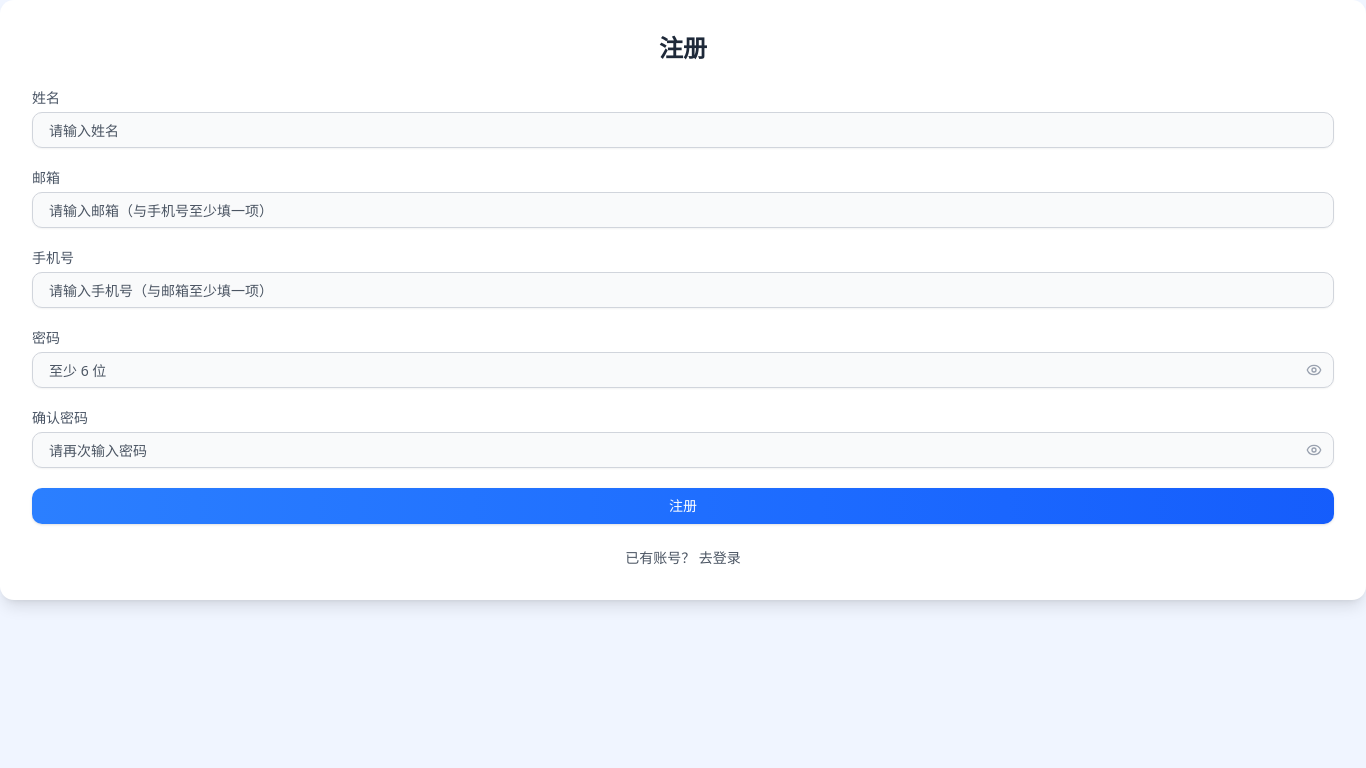
Test case: RegisterForm › requires at least email or phone
Step 1. Type "张三" into the field labelled "姓名" → (683, 130), box [32,112,1334,148]
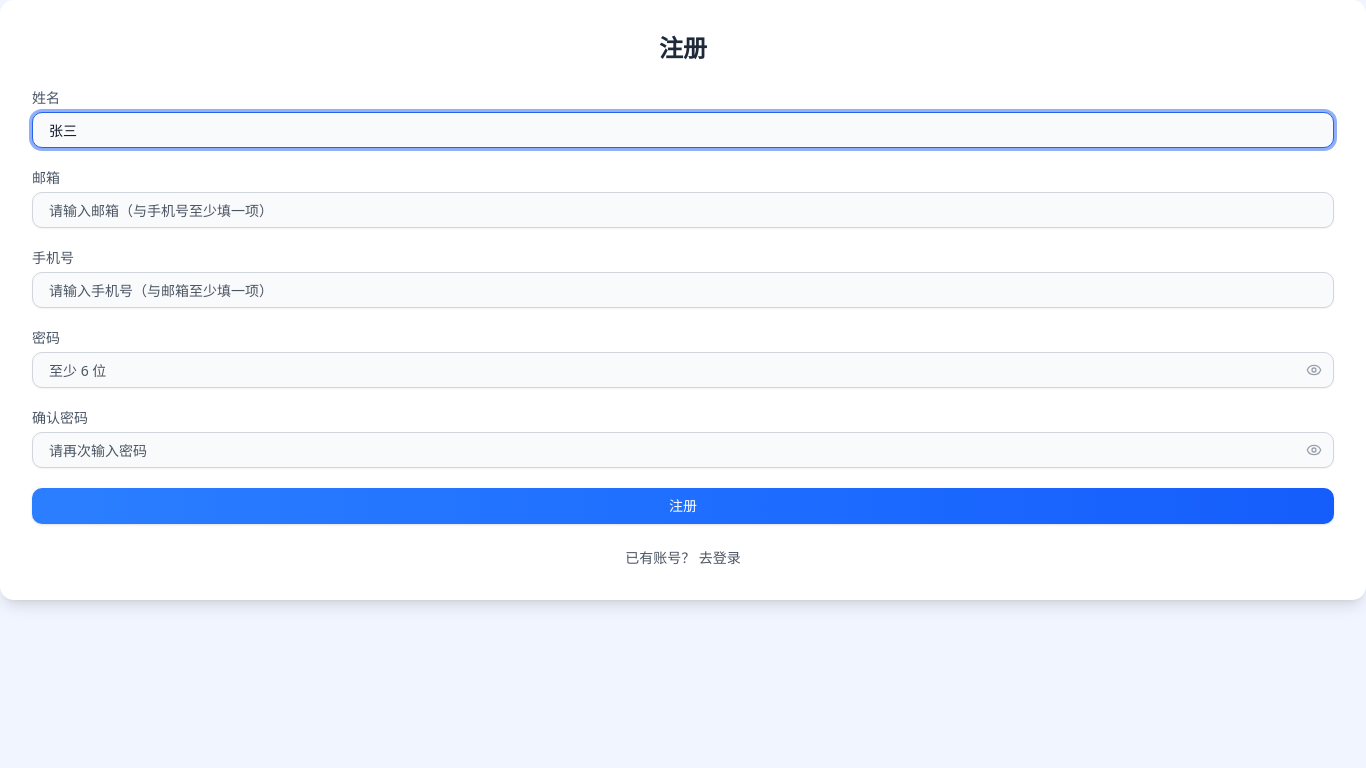
Step 2. Type "password123" into the password field labelled "密码" → (683, 370), box [32,352,1334,388]
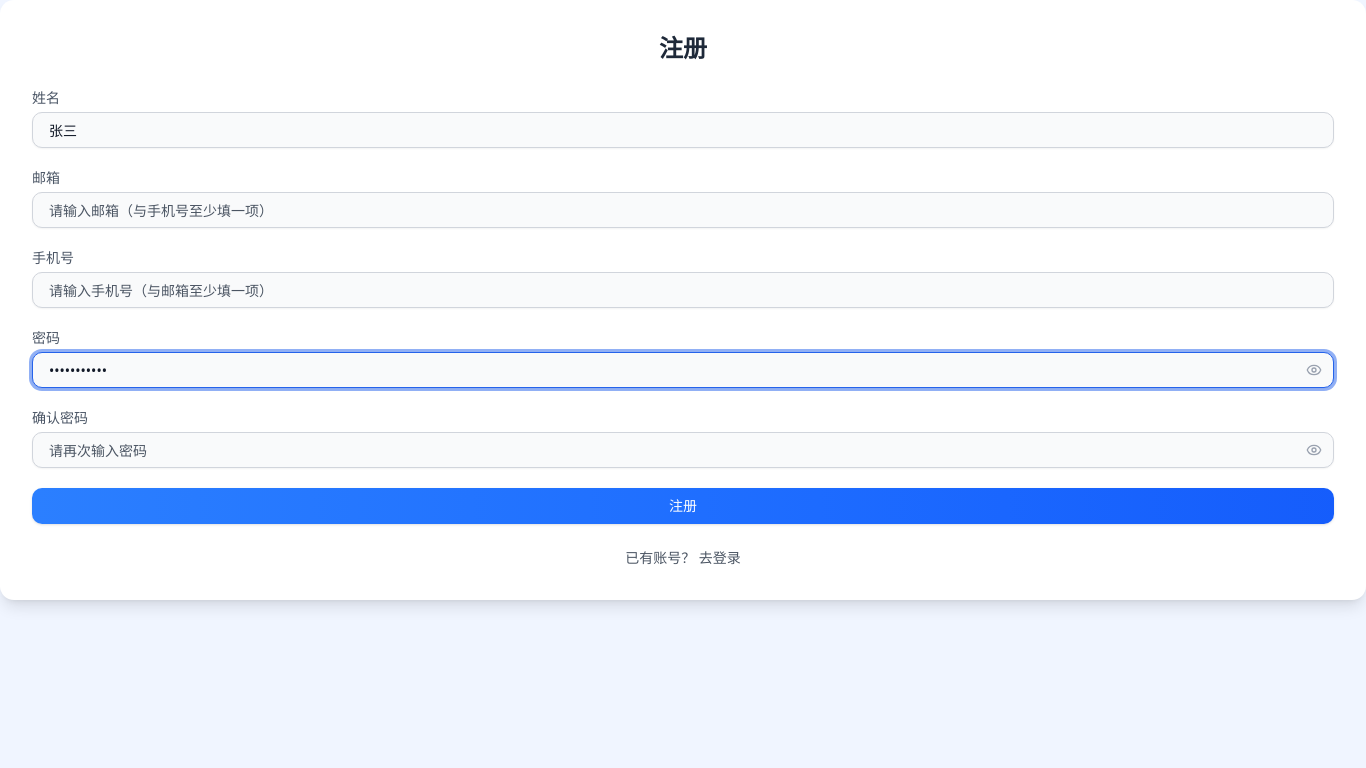
Step 3. Type "password123" into the password field labelled "确认密码" → (683, 450), box [32,432,1334,468]
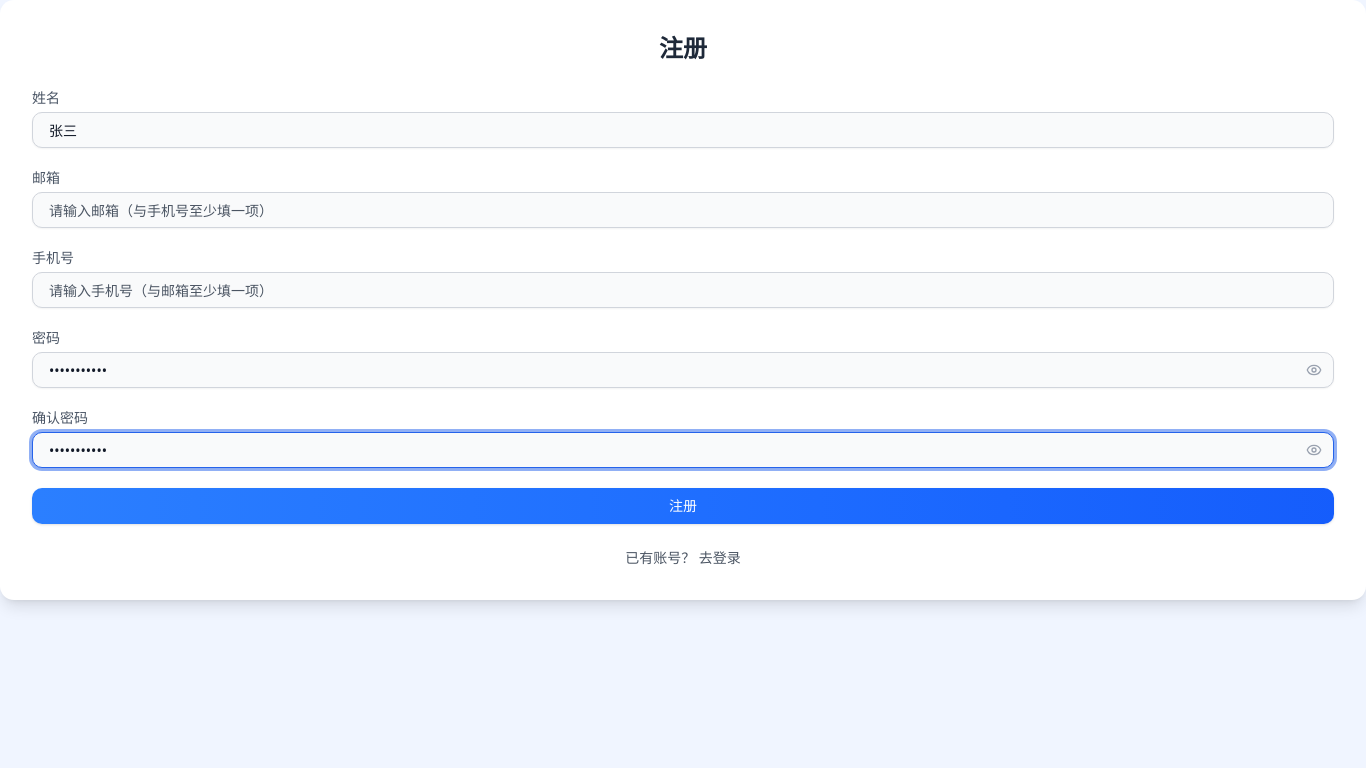
Step 4. Click the button "注册" → (683, 506), box [32,488,1334,524]
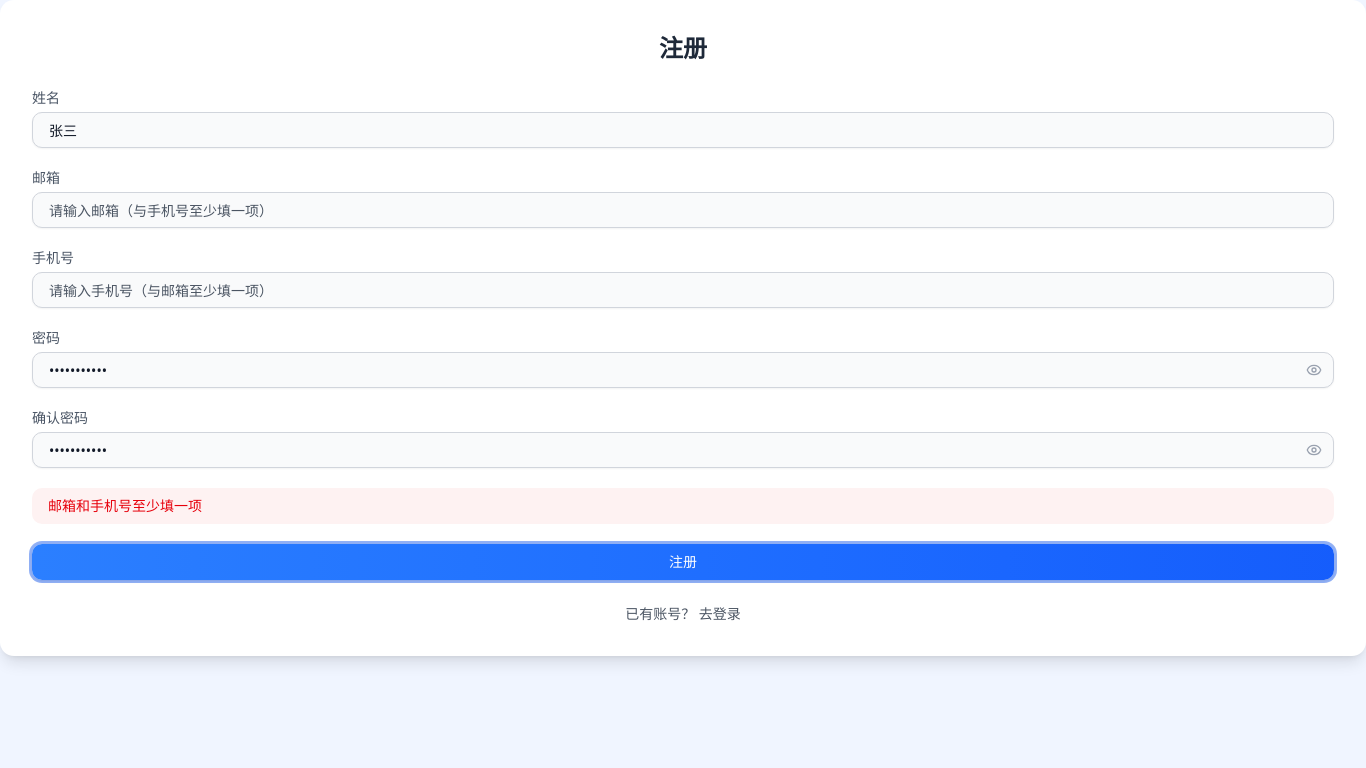
Result: the text "邮箱和手机号至少填一项" is shown at [32,488,1334,524]
